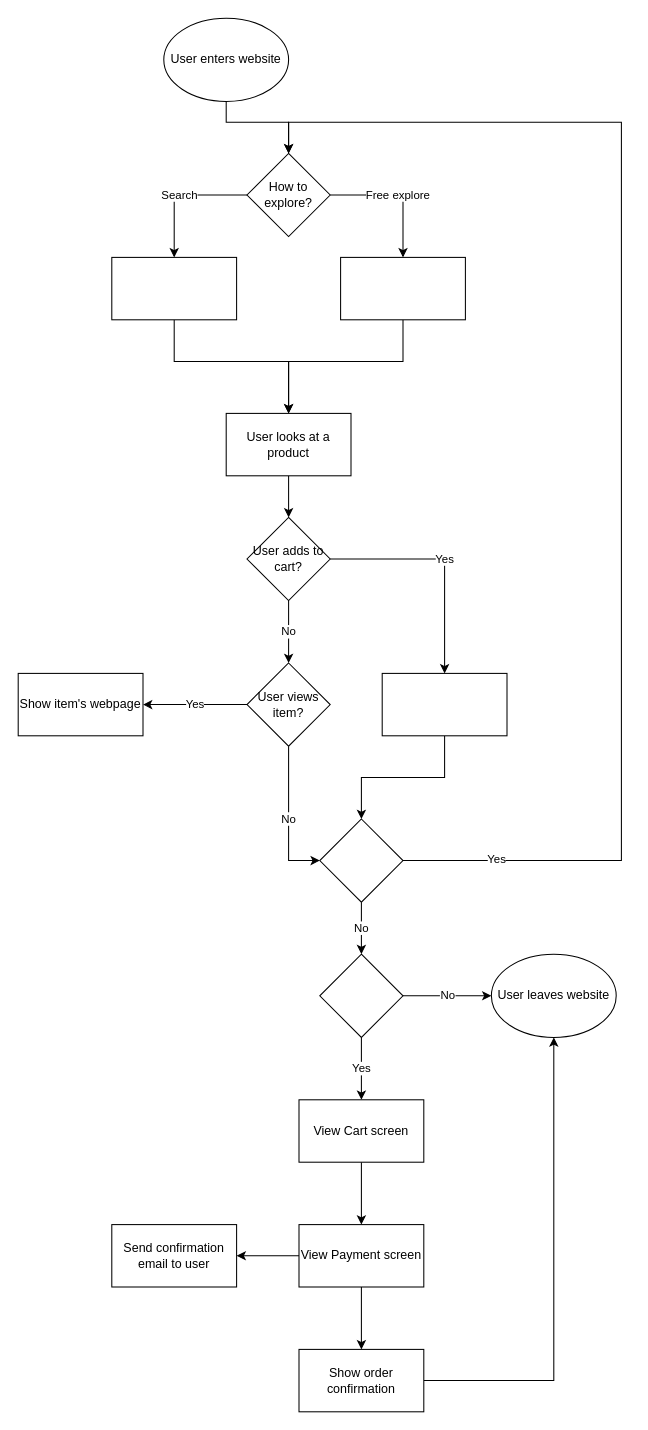
This 648x1430 diagram has some shape labels left out. Each missing label, with the centre of its shape:
Checkout?: [361,995]
Continue shopping?: [361,860]
Show "Added to cart" confirmation: [444,704]
Show all products: [402,288]
Show search results: [174,288]
